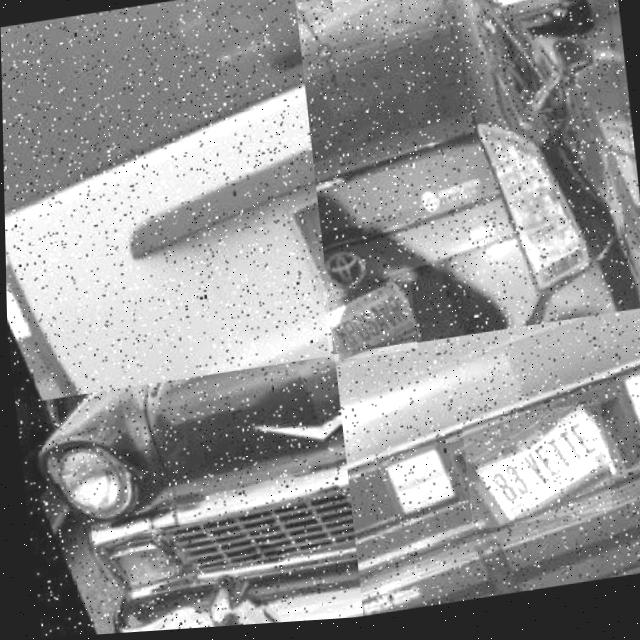LicensePlate: (464, 413, 605, 532), (324, 287, 414, 365)
